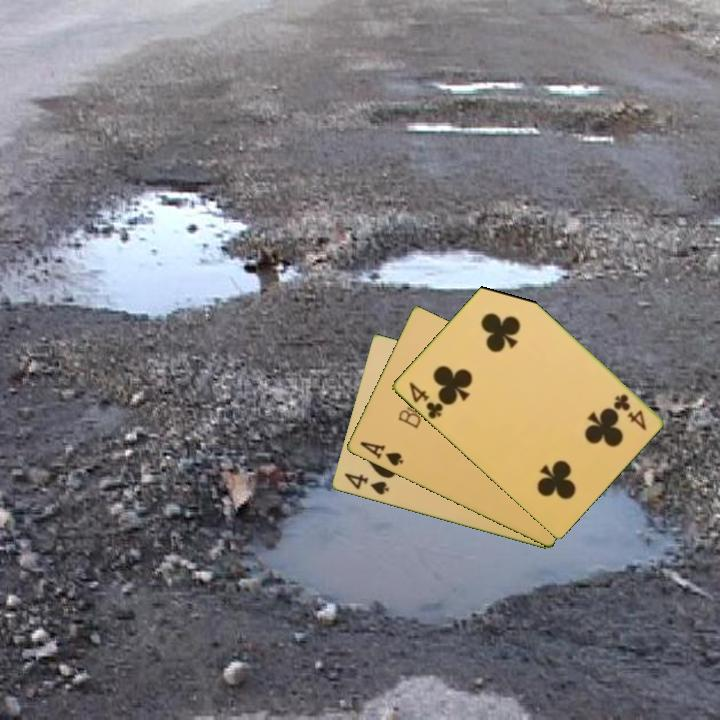4c: (405, 378, 446, 422), (610, 390, 649, 433)
4s: (340, 470, 392, 498)
As: (356, 438, 406, 469)
